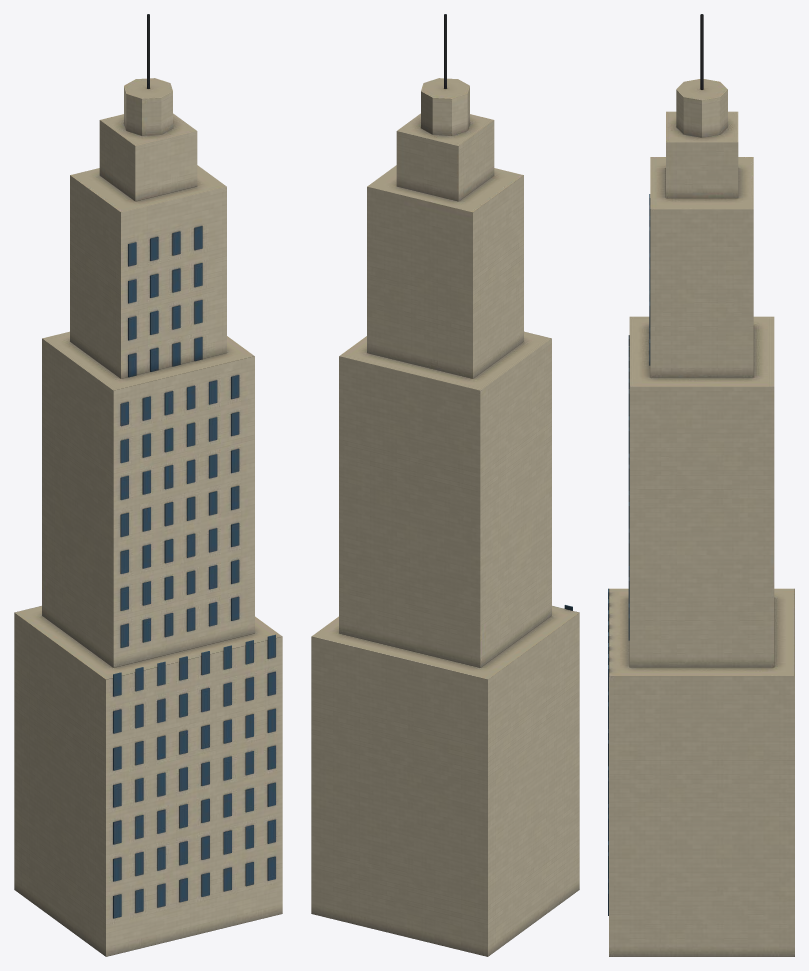
The model's file is torre_superman.glb.
3 renders of one model, left to right at view 1: azimuth 30°, elevation 25°; view 2: azimuth 150°, elevation 25°; view 3: azimuth 270°, elevation 25°, orthographic.
Visible parts, largest first — view 1: torre_superman; view 2: torre_superman; view 3: torre_superman.
Part boxes in pixels (bbox=[...]): torre_superman: bbox=[14, 14, 282, 956]; torre_superman: bbox=[311, 14, 579, 956]; torre_superman: bbox=[608, 14, 794, 956].
Size of the model in its own units: 20 by 96 by 18.1.
Materials: 1 (1 with a texture image).
